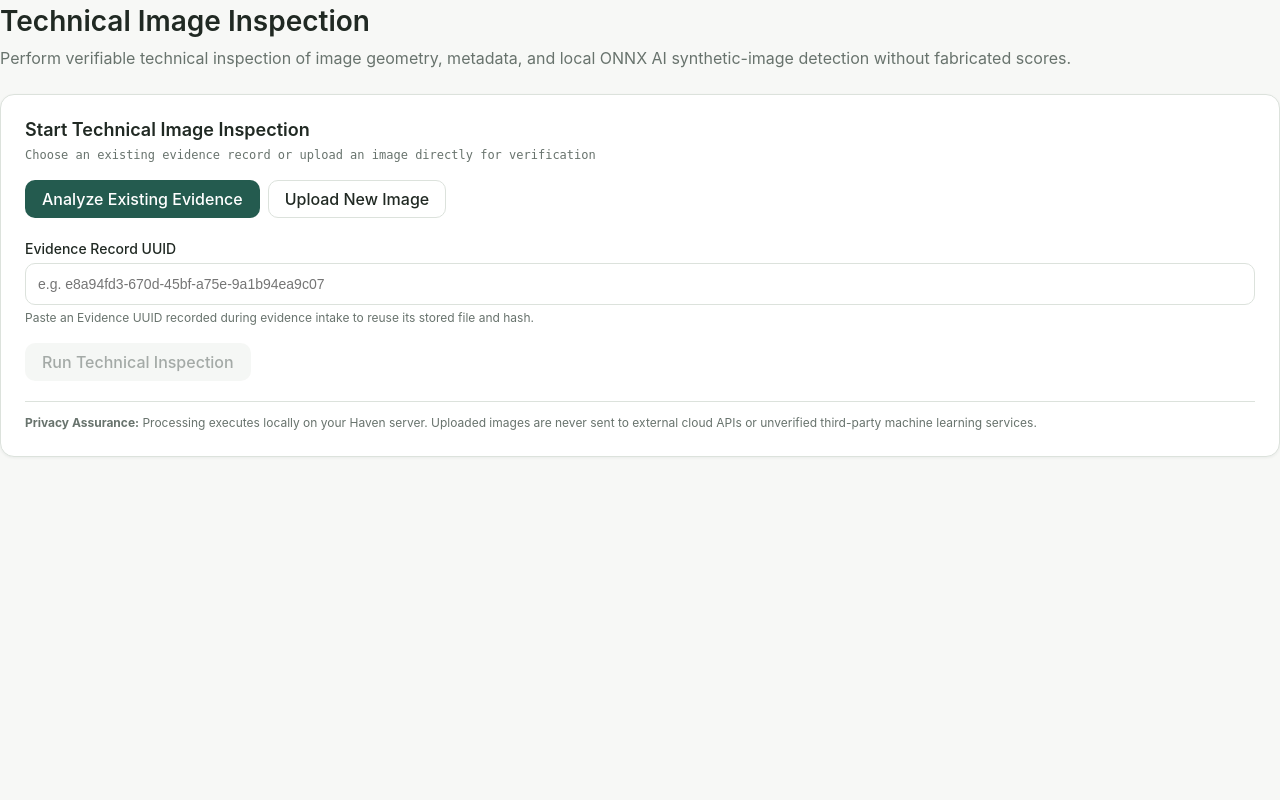
Test: ImageAnalyzer Feature Component › runs analysis on evidence ID and renders full inspection report
Type "evidence-test-456" into the field labelled "Evidence Record UUID" at (640, 284), box left=25, top=262, right=1255, bottom=304
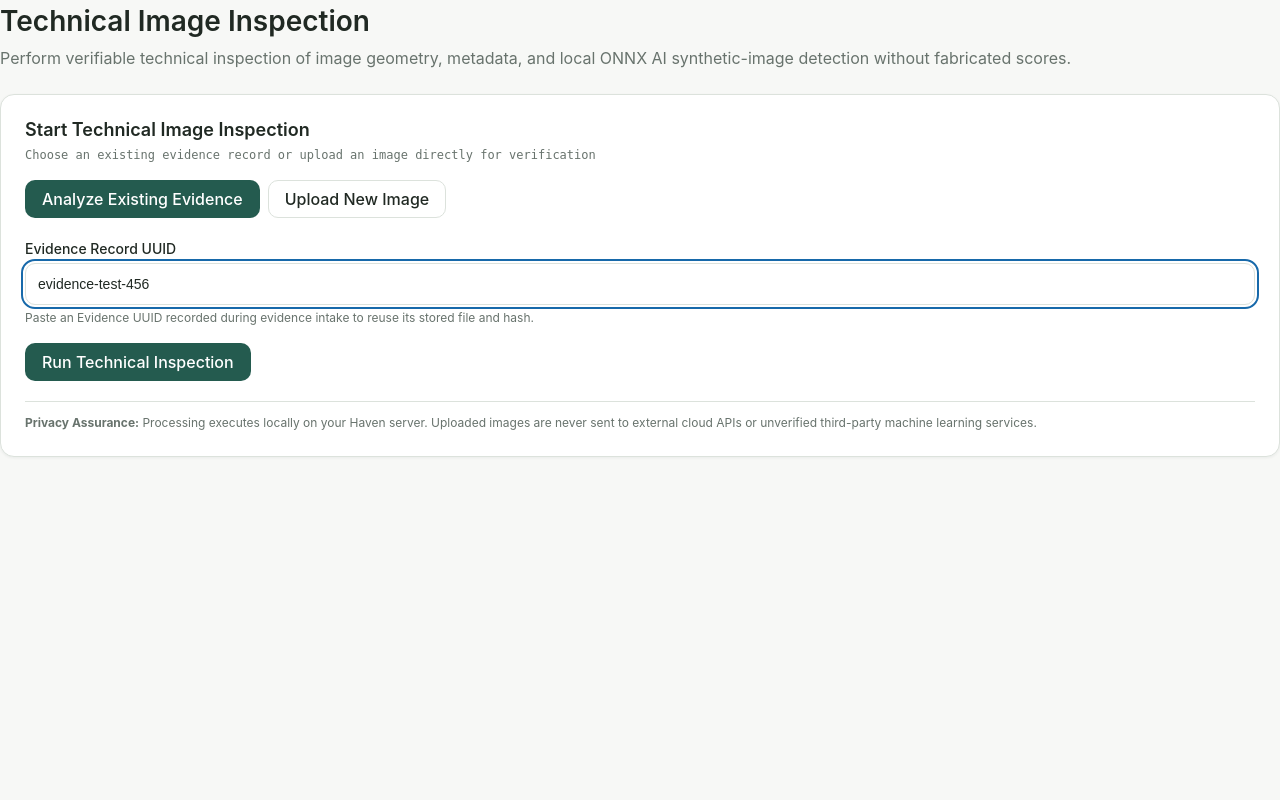
Click the button "Run Technical Inspection" at (138, 362), box left=25, top=342, right=251, bottom=380
(page scrolled)
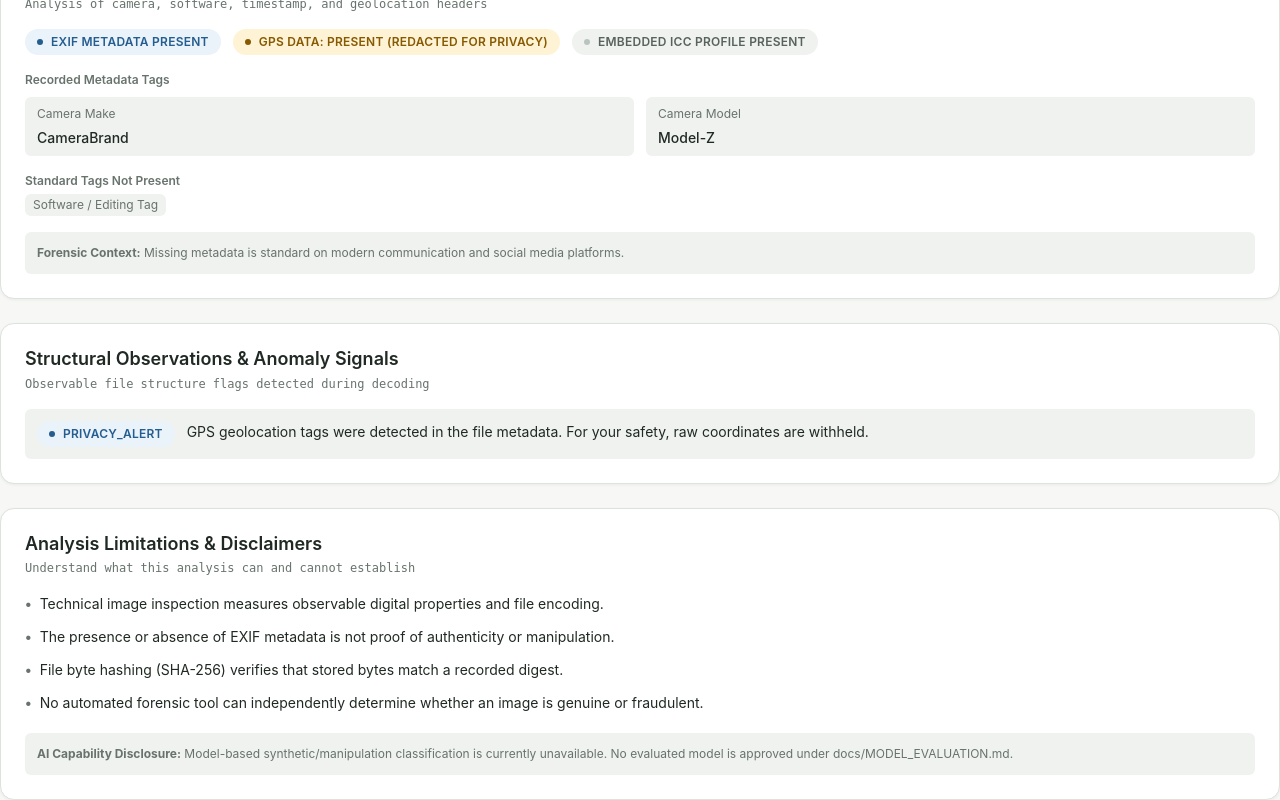
Result: the text "Camera Make" is shown at left=37, top=106, right=116, bottom=121
Result: the text "CameraBrand" is shown at left=37, top=129, right=129, bottom=146
Result: the text "Model-Z" is shown at left=658, top=129, right=715, bottom=146
